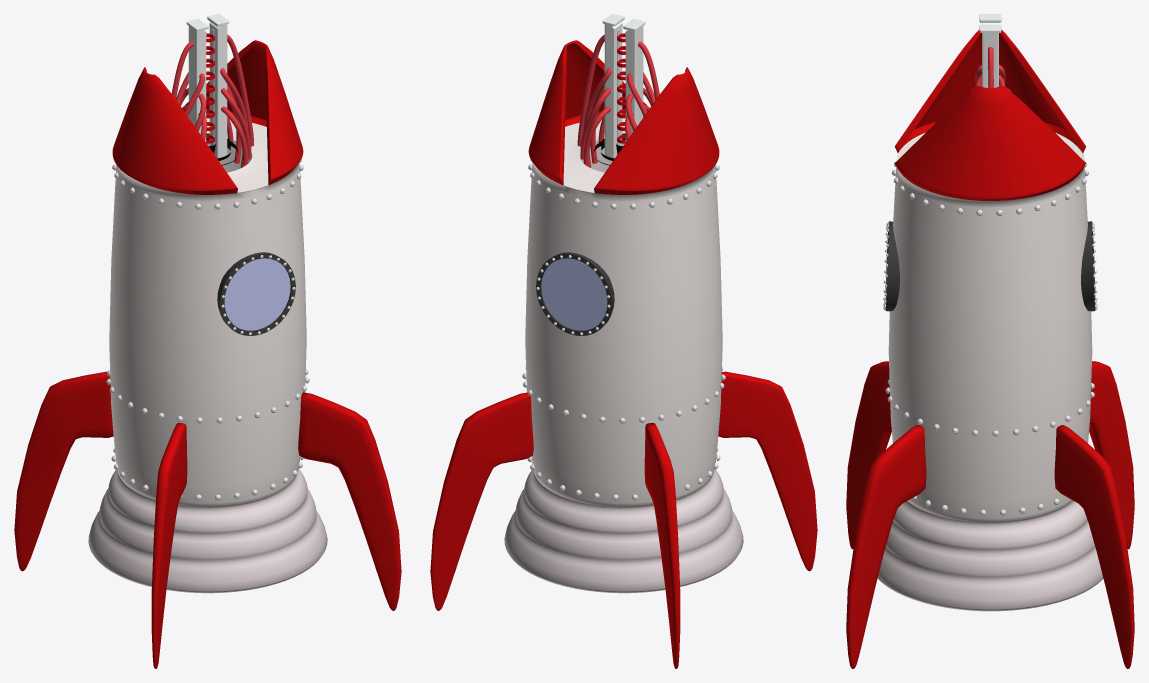
File: rocket.glb
3 views of the same model, side by side, from view 1: azimuth 30°, elevation 25°; view 2: azimuth 150°, elevation 25°; view 3: azimuth 270°, elevation 25° (orthographic). The views are drawn at different scales.
Visible parts, largest first — view 1: rocket_body, rocket_wings, window, outside_holder, middle_wire_0, highest_wire, middle_wire_1, circles; view 2: rocket_body, rocket_wings, window, outside_holder, middle_wire_0, highest_wire, middle_wire_1, circles; view 3: rocket_body, rocket_wings, window, outside_holder, middle_upper_bolts, upper_bolts.
Boxes of the visible parts, x1=… form: rocket_body: x1=88, y1=40, x2=327, y2=593; rocket_wings: x1=14, y1=371, x2=401, y2=668; window: x1=217, y1=252, x2=295, y2=335; outside_holder: x1=186, y1=14, x2=229, y2=158; middle_wire_0: x1=176, y1=68, x2=248, y2=167; highest_wire: x1=171, y1=34, x2=253, y2=146; middle_wire_1: x1=180, y1=88, x2=251, y2=159; circles: x1=206, y1=33, x2=214, y2=154; rocket_body: x1=504, y1=40, x2=743, y2=593; rocket_wings: x1=430, y1=371, x2=817, y2=668; window: x1=536, y1=252, x2=614, y2=335; outside_holder: x1=602, y1=14, x2=645, y2=158; middle_wire_0: x1=583, y1=68, x2=655, y2=167; highest_wire: x1=577, y1=34, x2=659, y2=146; middle_wire_1: x1=580, y1=88, x2=651, y2=159; circles: x1=617, y1=33, x2=625, y2=154; rocket_body: x1=877, y1=30, x2=1103, y2=611; rocket_wings: x1=846, y1=361, x2=1134, y2=668; window: x1=885, y1=221, x2=1095, y2=311; outside_holder: x1=979, y1=14, x2=1001, y2=87; middle_upper_bolts: x1=885, y1=379, x2=1094, y2=436; upper_bolts: x1=892, y1=162, x2=1088, y2=215.
Bounding box in the file's own units: 3.14 × 6.85 × 3.05.
